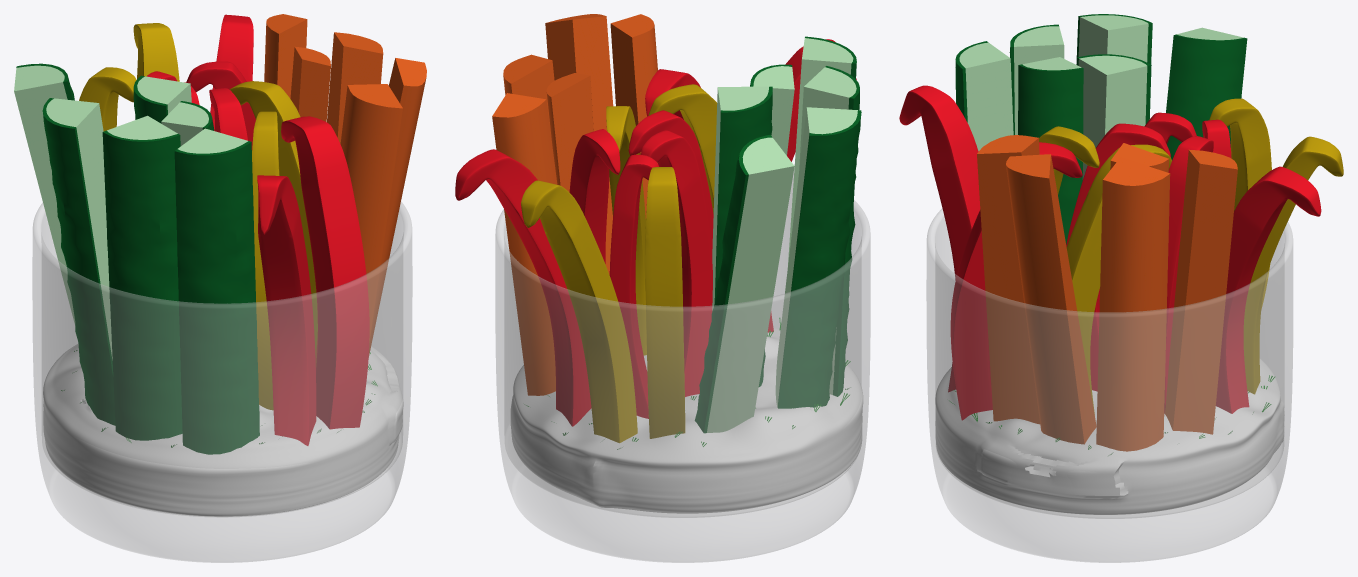
File: vegetables.glb
3 renders of one model, left to right at view 1: azimuth 30°, elevation 25°; view 2: azimuth 150°, elevation 25°; view 3: azimuth 270°, elevation 25°, orthographic. The views are drawn at different scales.
Visible parts, largest first — view 1: Circle; view 2: Circle; view 3: Circle.
Part boxes in pixels (box(x1,y1,x2,y2)): Circle: box(14, 14, 426, 562); Circle: box(455, 14, 870, 562); Circle: box(899, 14, 1343, 562).
Size of the model in its own units: 2.29 by 2.68 by 2.65.
5 materials, 5 textured.
